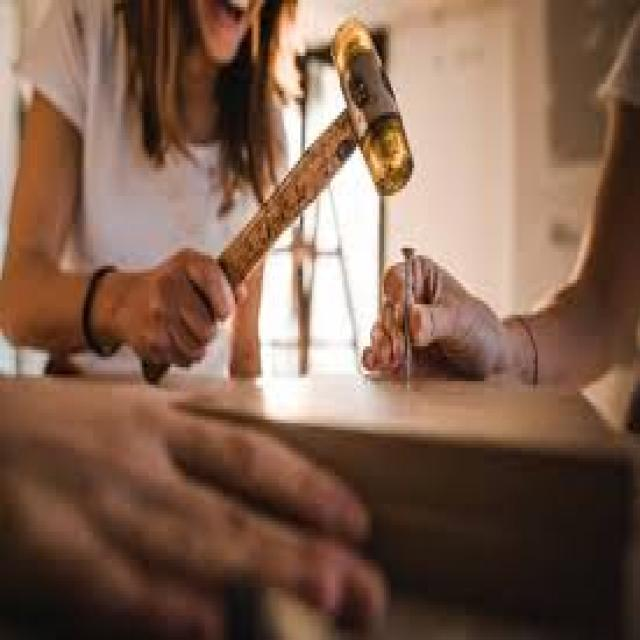hammer: (134, 11, 420, 398)
